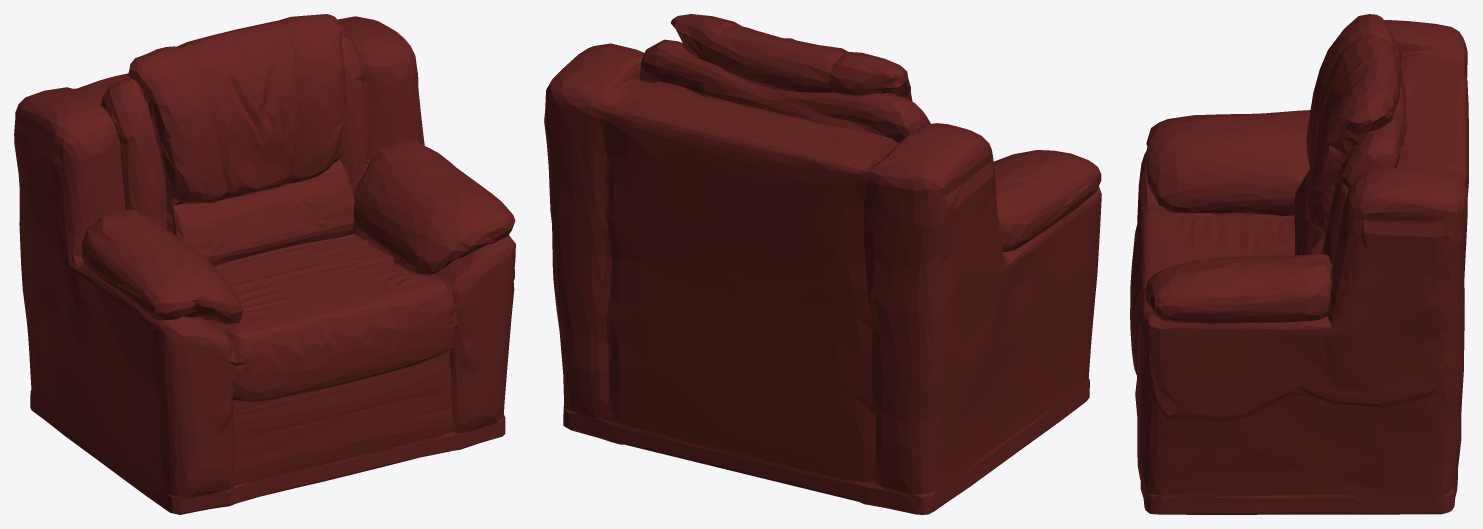
The model's file is redsofa.glb.
3 renders of one model, left to right at view 1: azimuth 30°, elevation 25°; view 2: azimuth 150°, elevation 25°; view 3: azimuth 270°, elevation 25°, orthographic. The views are drawn at different scales.
Parts seen in each view (by area): view 1: tmph_elqye2.ply; view 2: tmph_elqye2.ply; view 3: tmph_elqye2.ply.
Part boxes in pixels (left/top/right/bottom): tmph_elqye2.ply: left=14, top=14, right=515, bottom=514; tmph_elqye2.ply: left=544, top=14, right=1101, bottom=514; tmph_elqye2.ply: left=1130, top=14, right=1468, bottom=514.
Size of the model in its own units: 1.97 by 1.86 by 1.53.
